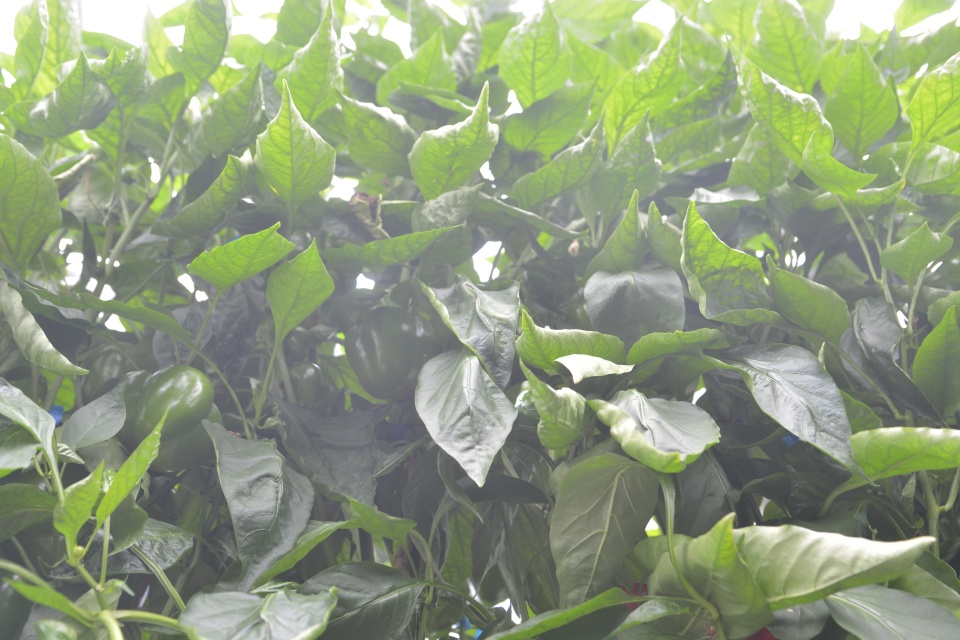flower: (566, 237, 580, 257)
fruit: (115, 362, 225, 474), (344, 304, 444, 405), (287, 360, 340, 412), (284, 324, 316, 363)
